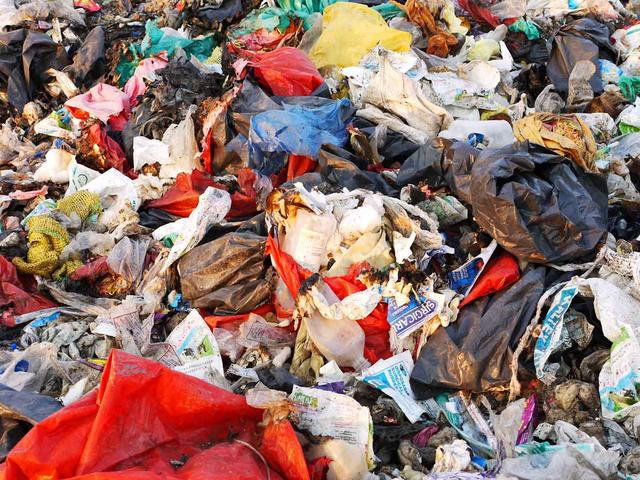garbage: (8, 7, 630, 468)
